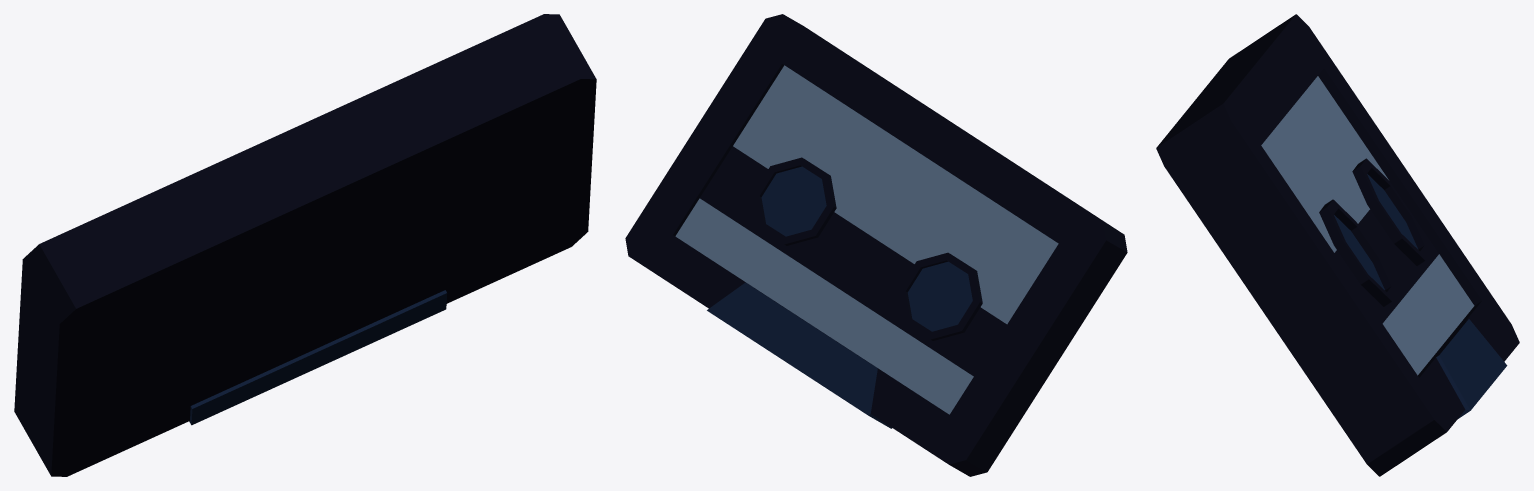
File: t.DataStorage.002.fbx
3 views of the same model, side by side, from view 1: azimuth 30°, elevation 25°; view 2: azimuth 150°, elevation 25°; view 3: azimuth 270°, elevation 25° (orthographic). The views are drawn at different scales.
Visible parts, largest first — view 1: t.DataStorage.002; view 2: t.DataStorage.002; view 3: t.DataStorage.002.
Boxes of the visible parts, left/top/right/bottom form: t.DataStorage.002: left=14, top=14, right=596, bottom=476; t.DataStorage.002: left=625, top=14, right=1127, bottom=476; t.DataStorage.002: left=1156, top=14, right=1519, bottom=476.
Size of the model in its own units: 78.2 by 57.35 by 40.53.
